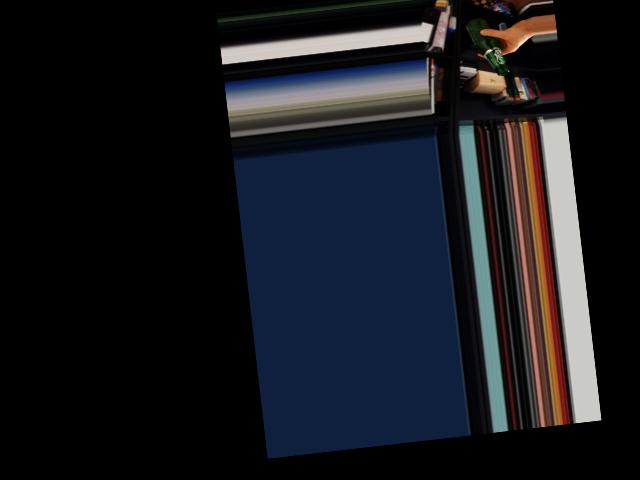beer: (464, 14, 509, 78)
